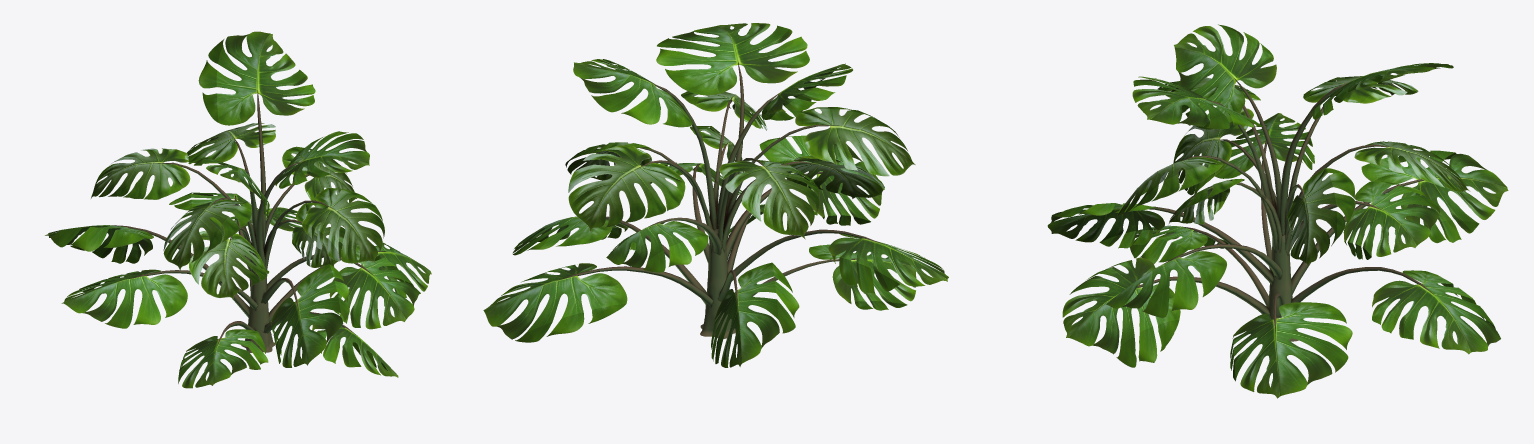
Rendered from tree17.fbx.
3 renders of one model, left to right at view 1: azimuth 30°, elevation 25°; view 2: azimuth 150°, elevation 25°; view 3: azimuth 270°, elevation 25°, orthographic. The views are drawn at different scales.
Visible parts, largest first — view 1: tree.006SM_MZRa_Monstera_B071; view 2: tree.006SM_MZRa_Monstera_B071; view 3: tree.006SM_MZRa_Monstera_B071.
Boxes of the visible parts, x1,y1,x2,y2 form: tree.006SM_MZRa_Monstera_B071: (45,31,431,388); tree.006SM_MZRa_Monstera_B071: (483,23,948,367); tree.006SM_MZRa_Monstera_B071: (1047,24,1508,398).
Bounding box in the file's own units: 347 × 247 × 327.
